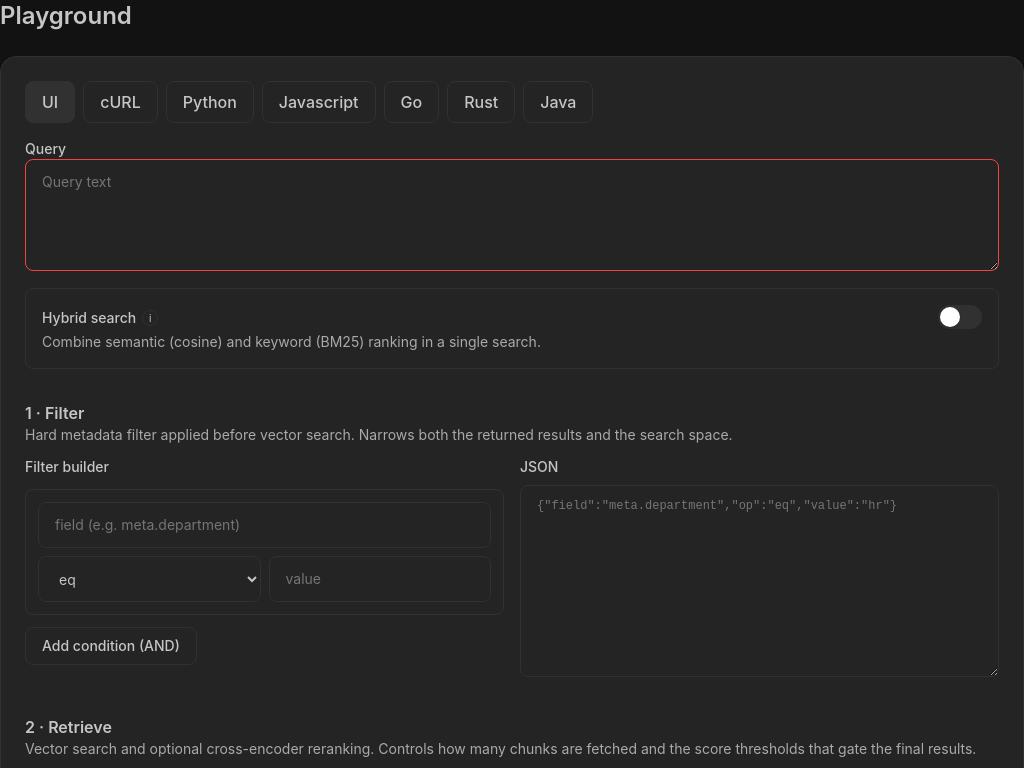
Test: PlaygroundPage › shows code snippet tabs
Click the button "Python": (210,102) left=166, top=81, right=254, bottom=123
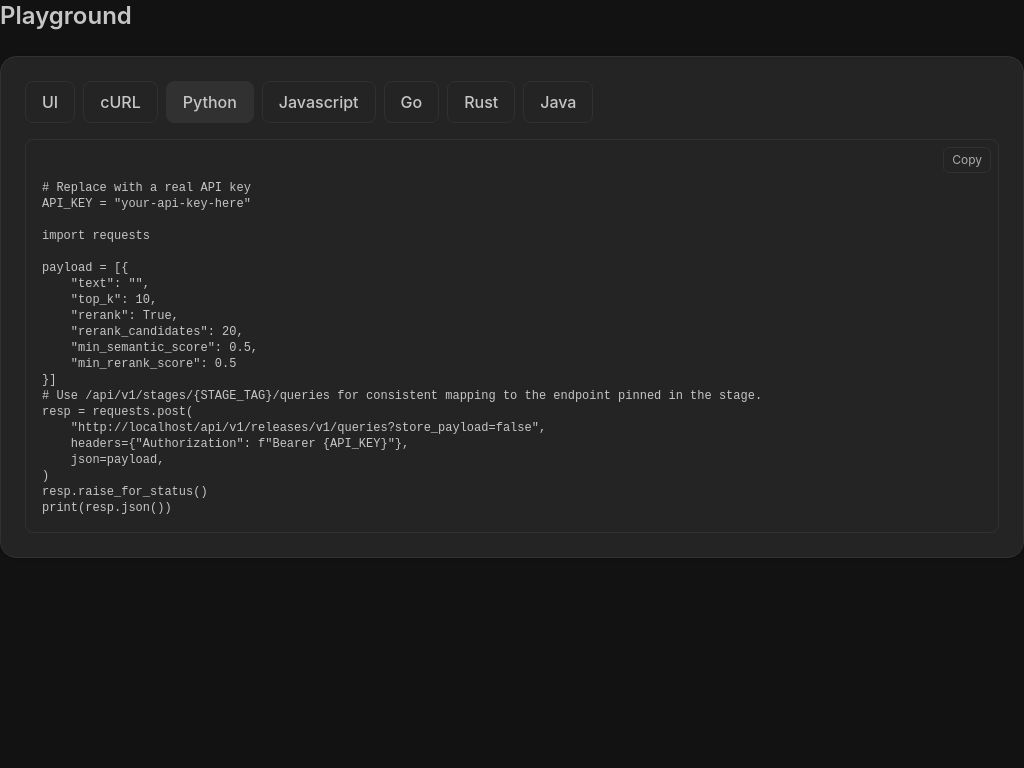
Expected: the button with aria-label "Copy snippet" is shown, left=943, top=147, right=991, bottom=173
Expected: the text "import requests" is shown, left=42, top=181, right=762, bottom=515
